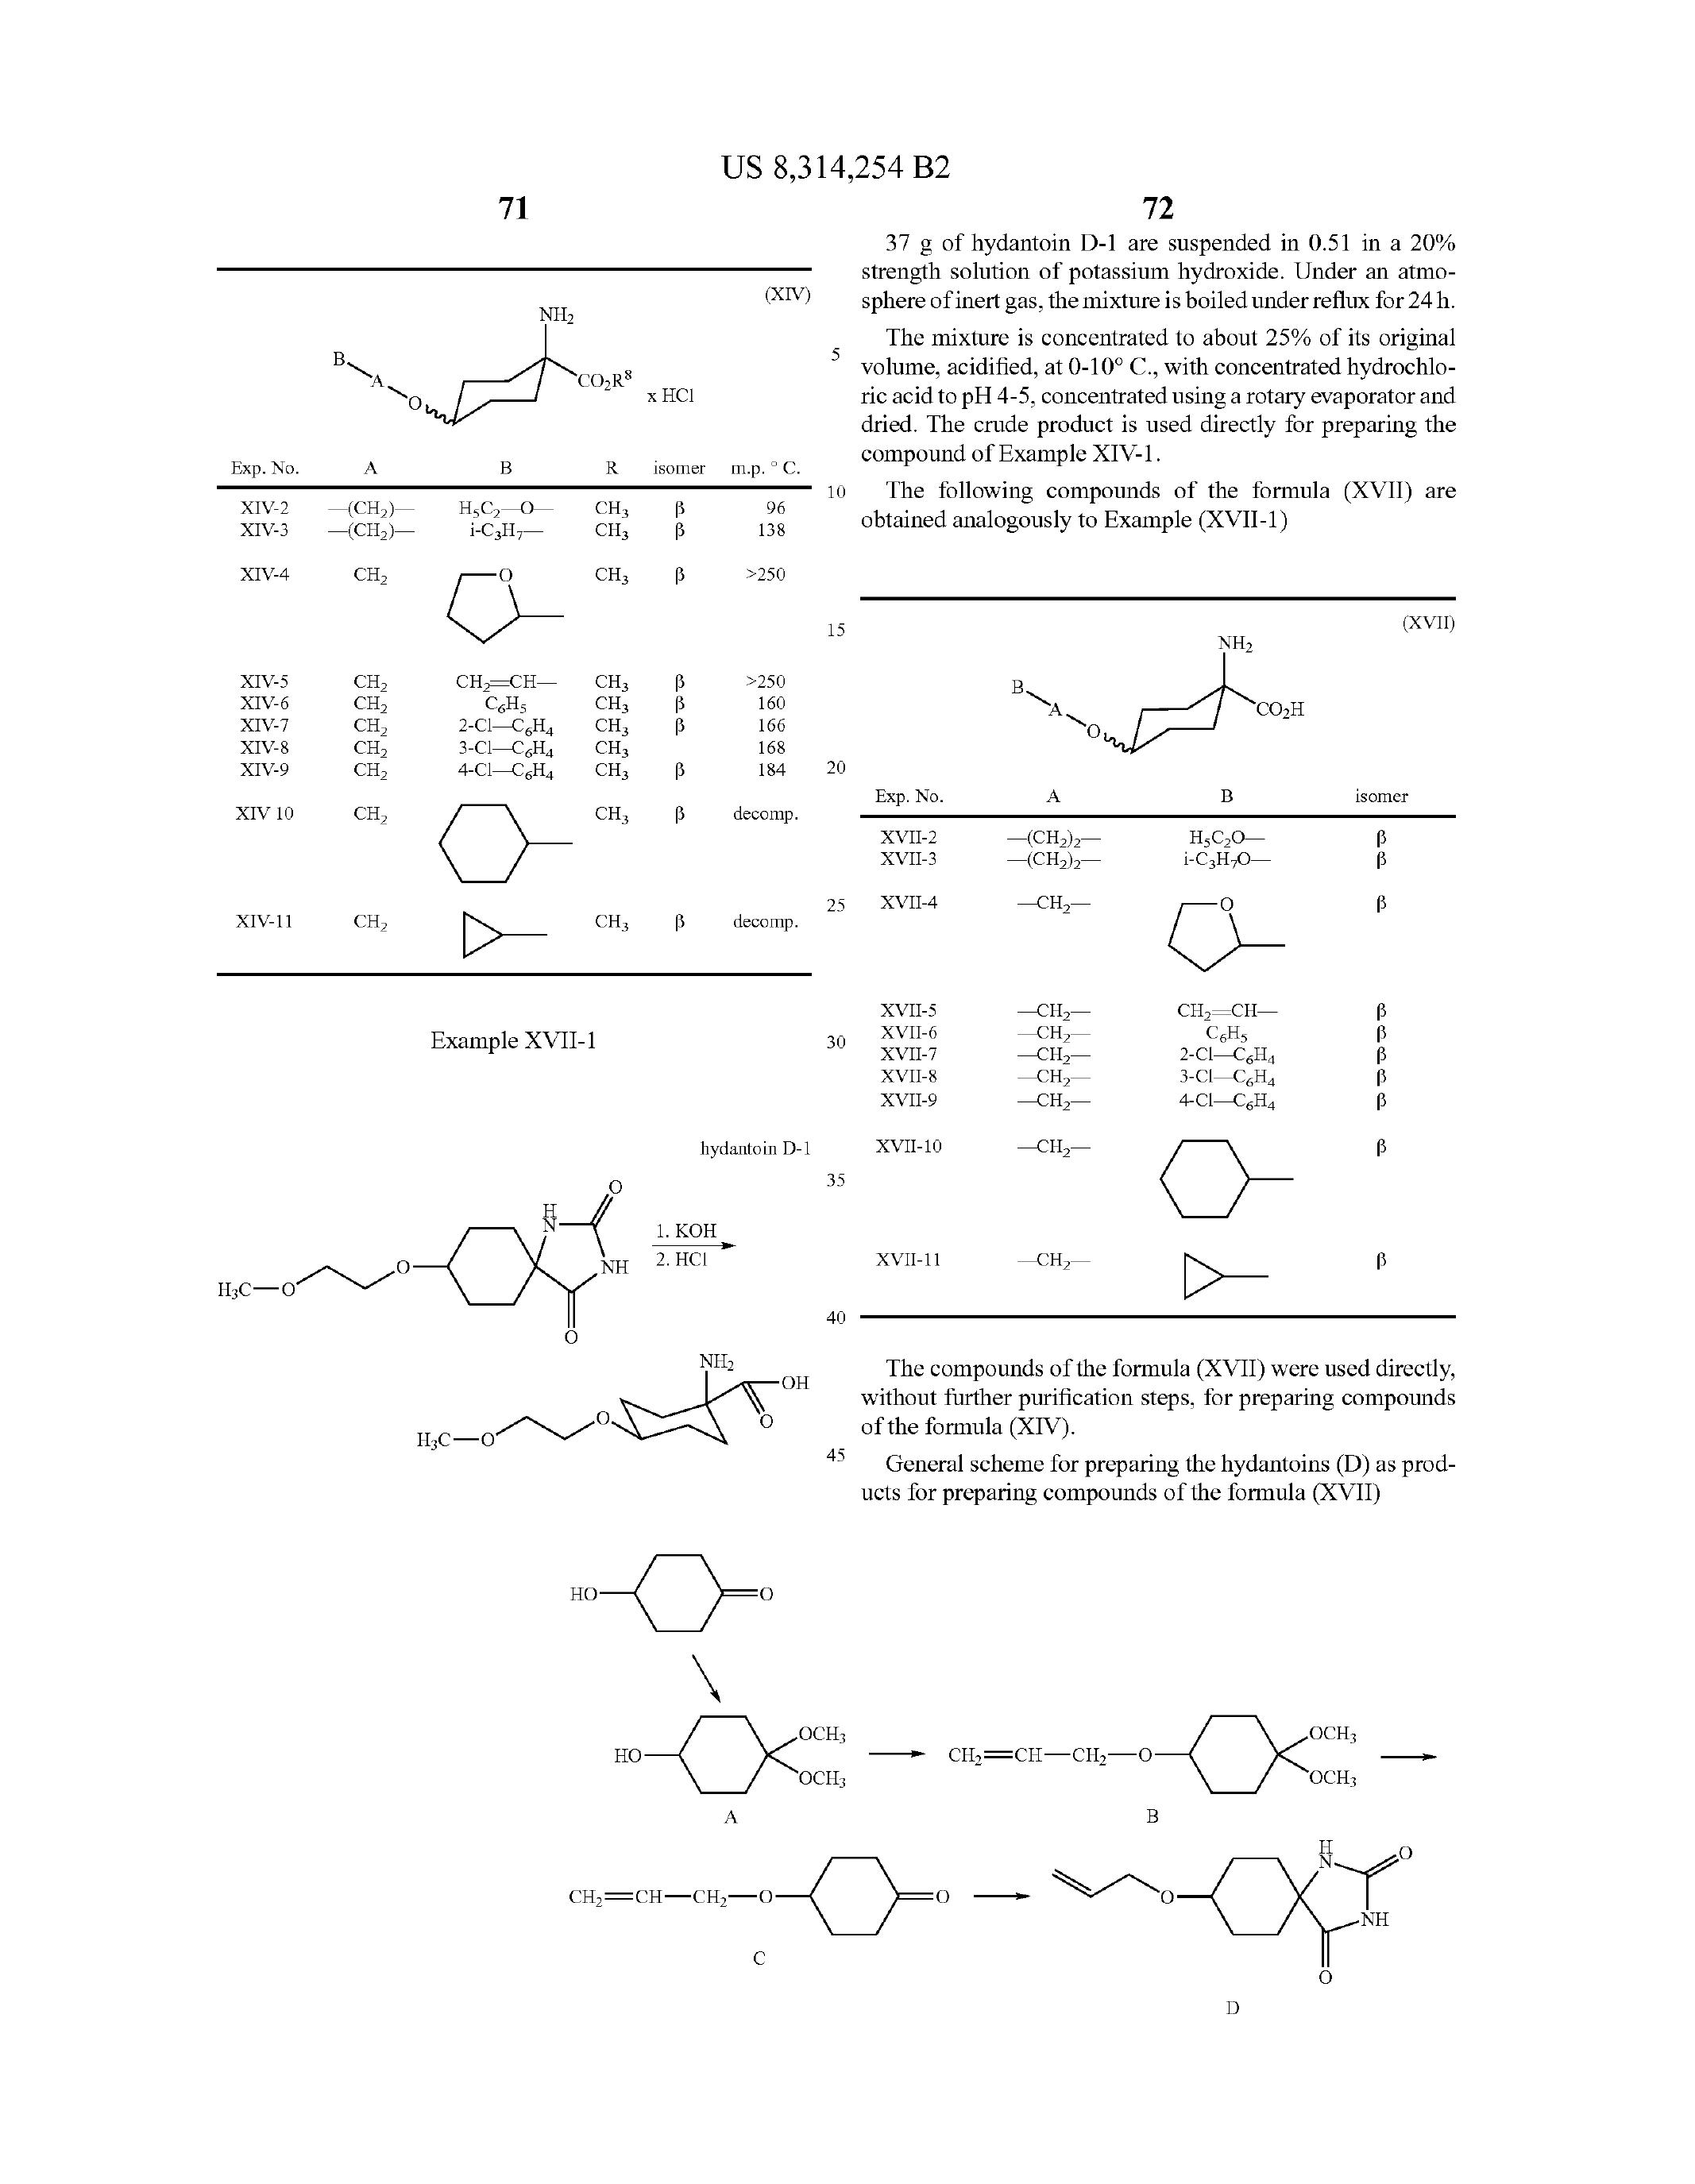intermediates: (188, 1147, 826, 1473)
